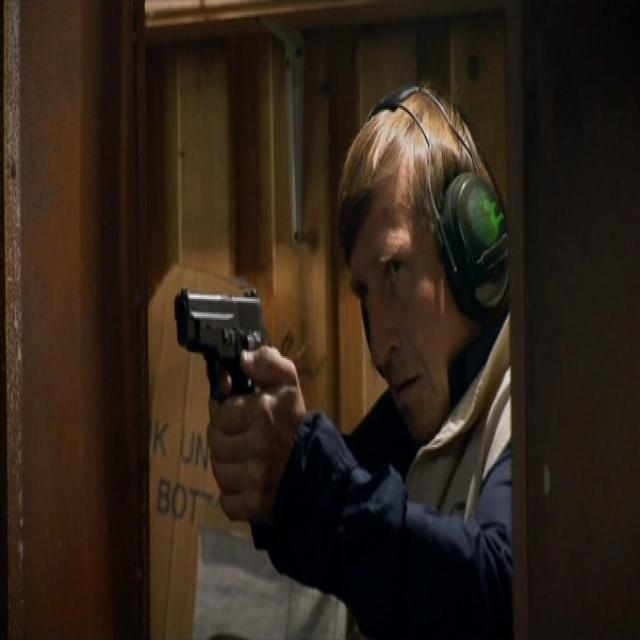weapons: (168, 272, 293, 504)
